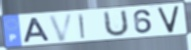6: (133, 8, 155, 35)
A: (23, 17, 52, 44)
I: (77, 13, 87, 40)
U: (103, 9, 131, 38)
V: (47, 12, 76, 43), (156, 4, 181, 34)
